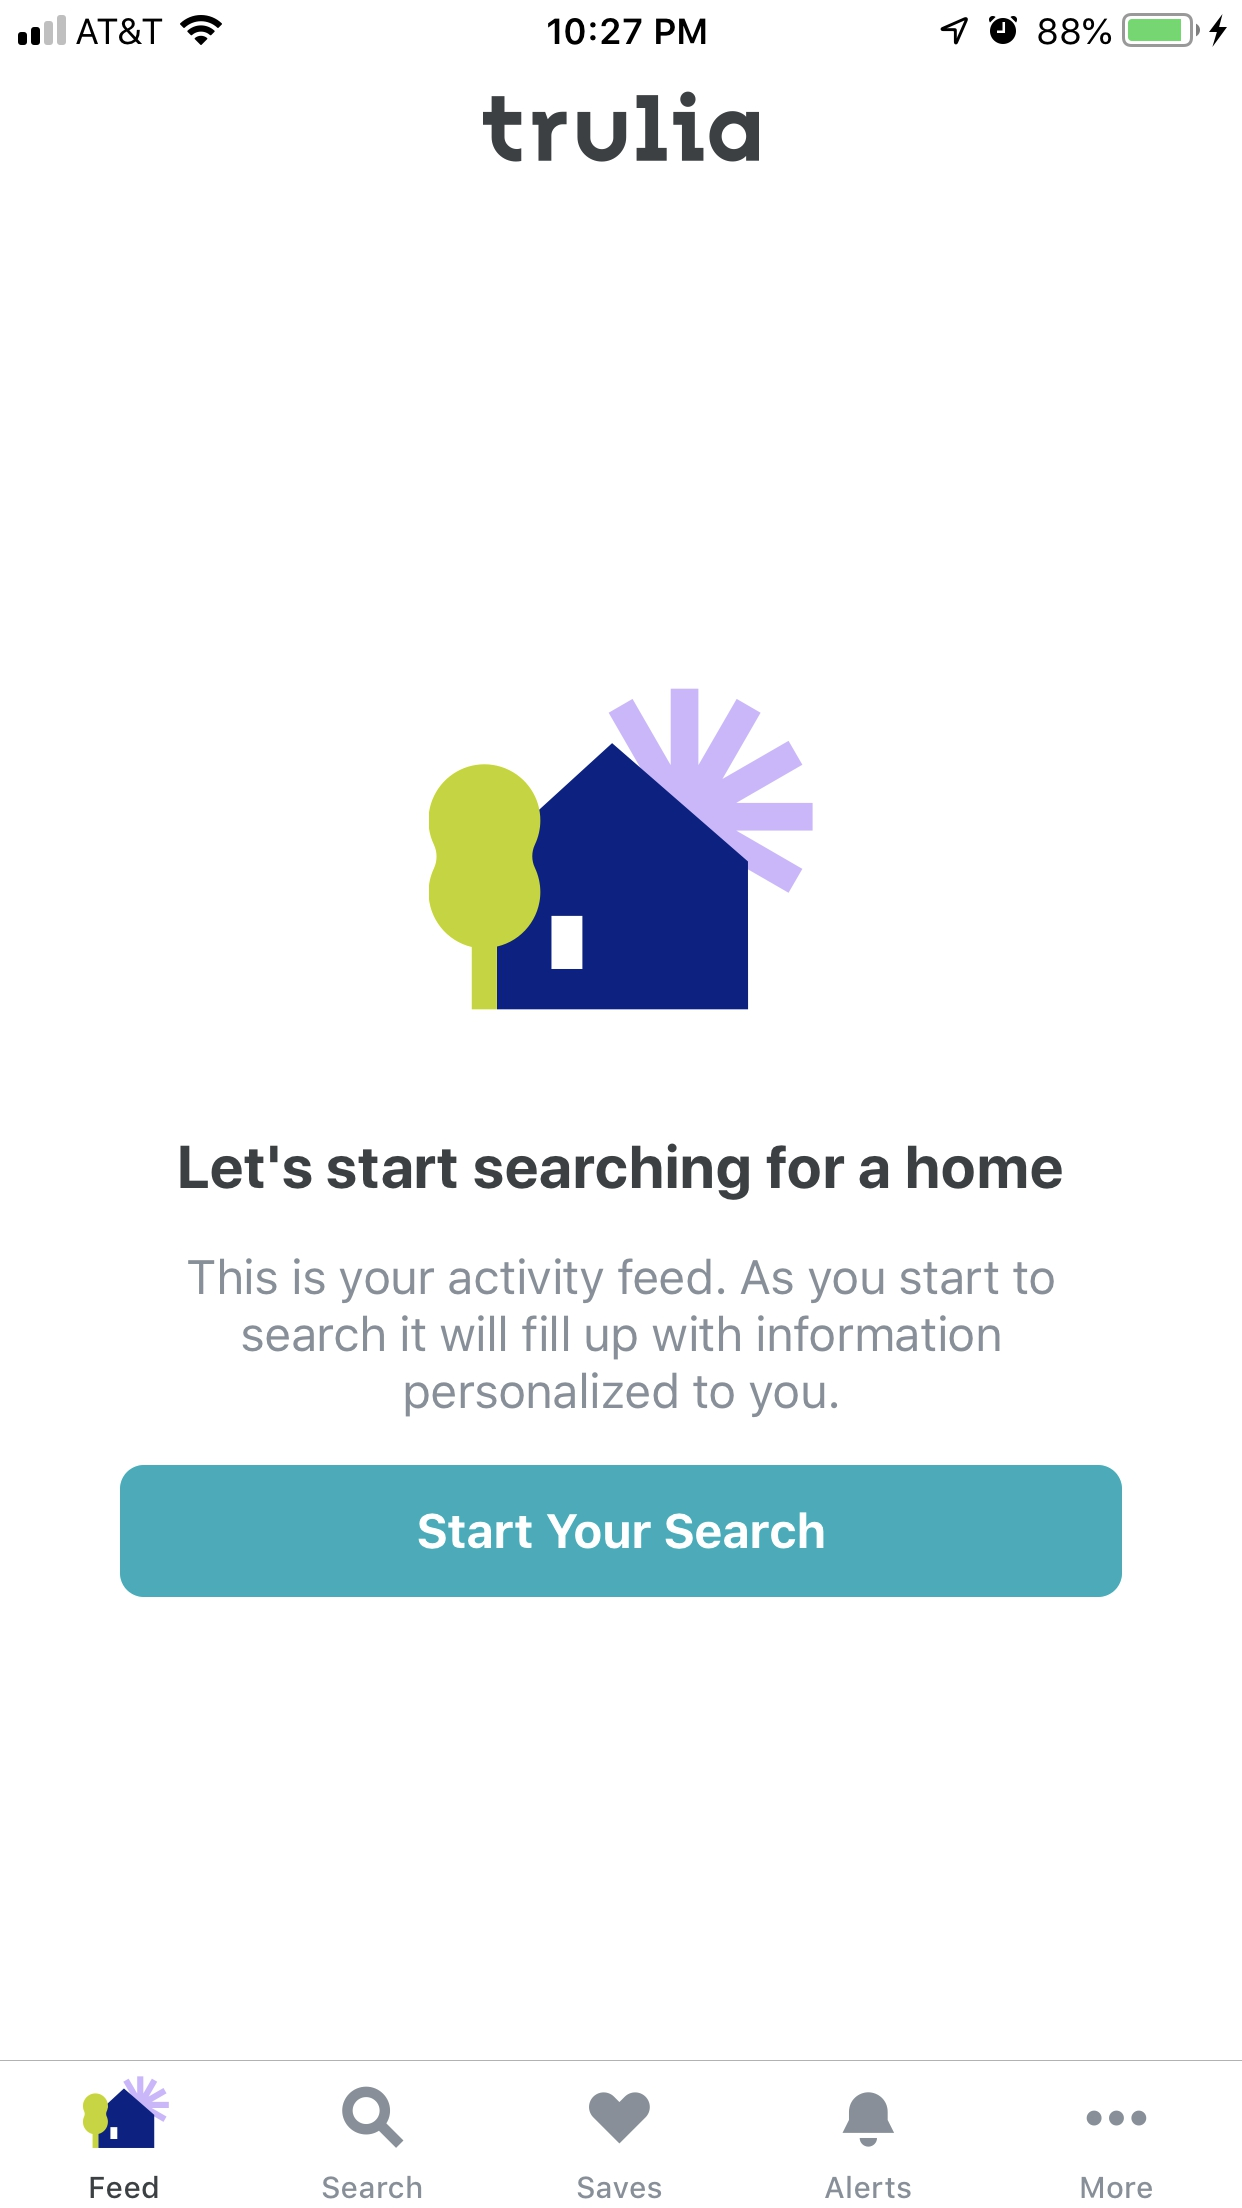Icon: (83, 2075, 170, 2147), (343, 2087, 405, 2149), (588, 2091, 651, 2144), (842, 2091, 895, 2147), (1086, 2109, 1146, 2128)
Image: (428, 687, 814, 1011)
Text: (187, 1259, 1055, 1419), (180, 1143, 1065, 1201), (482, 91, 761, 164), (323, 2175, 423, 2199), (825, 2175, 911, 2199), (578, 2175, 663, 2199), (89, 2175, 159, 2199), (1081, 2176, 1153, 2199)
TextButton: (120, 1463, 1124, 1598)
UpperTaskBar: (2, 2, 1242, 50)
